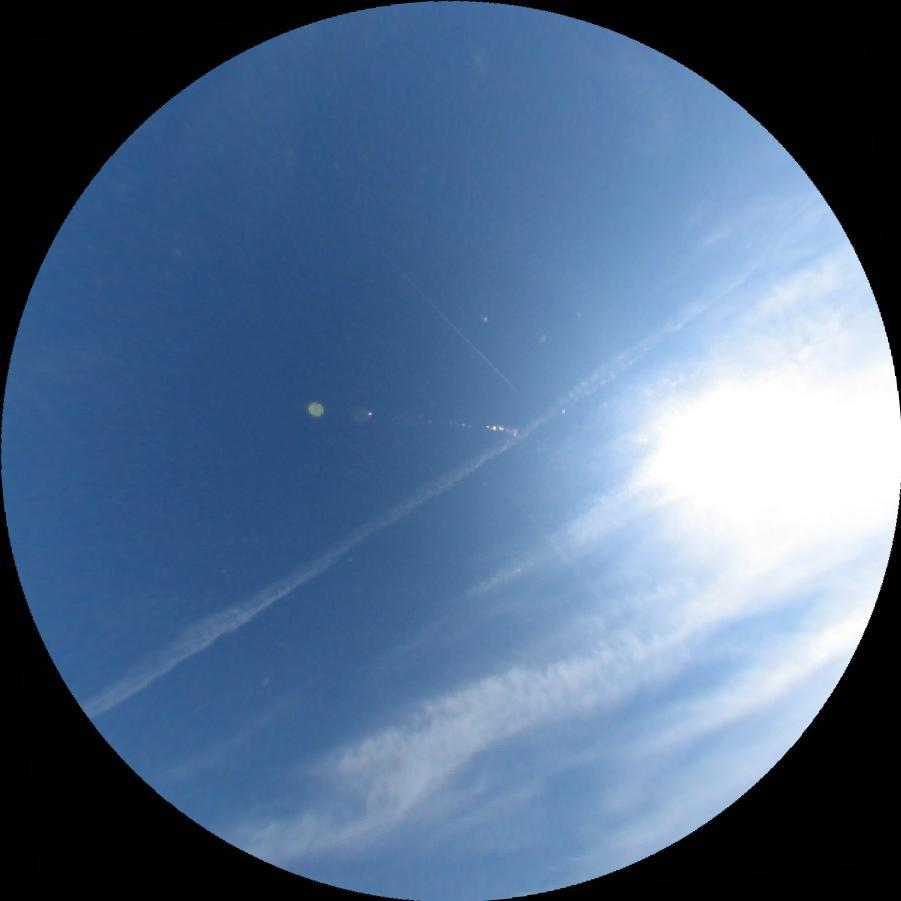contrail old: (76, 259, 769, 723)
contrail young: (393, 264, 517, 392)
unknow: (499, 482, 603, 603)
